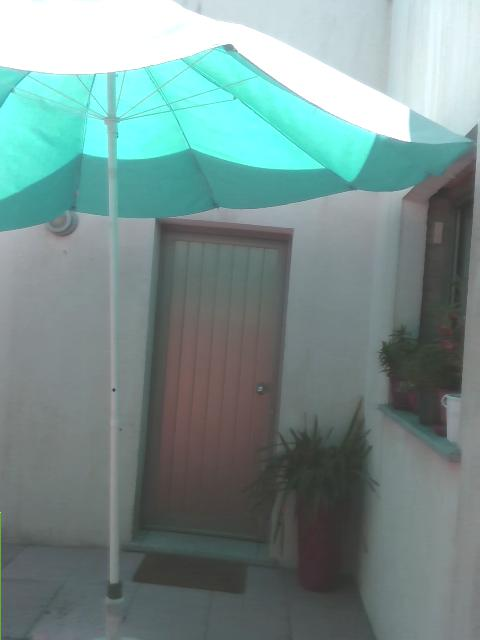closed_door: (134, 216, 294, 541)
